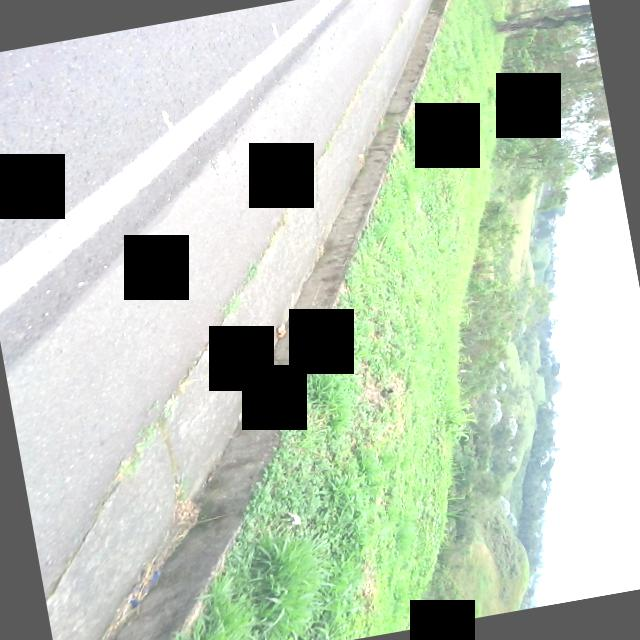DITCH: (0, 0, 564, 640), (0, 0, 557, 640), (0, 0, 540, 640)
